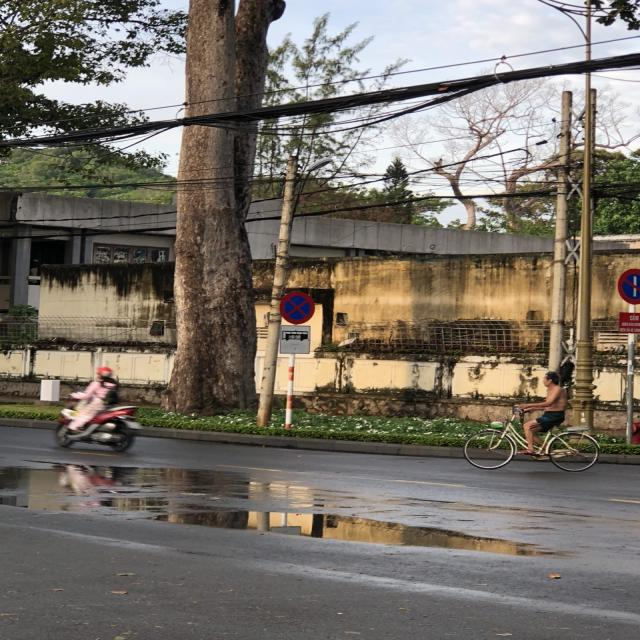Bien bao cam dung xe va do xe: (276, 289, 316, 324)
